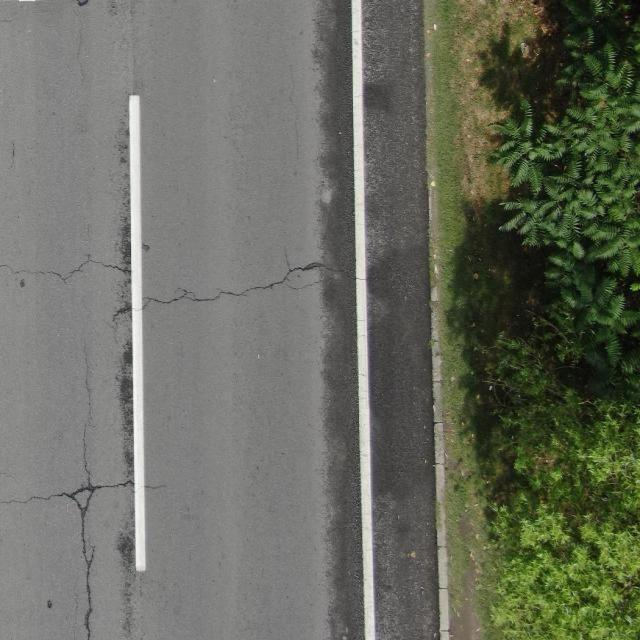GRIETA: (144, 262, 329, 306), (0, 255, 129, 281), (0, 482, 130, 504), (83, 340, 94, 486), (80, 510, 92, 639)
